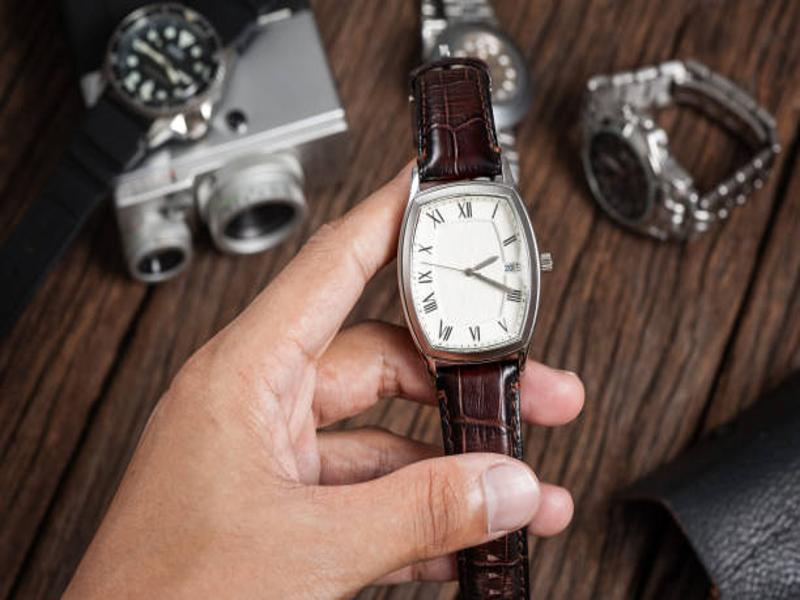watch: (390, 55, 554, 593)
